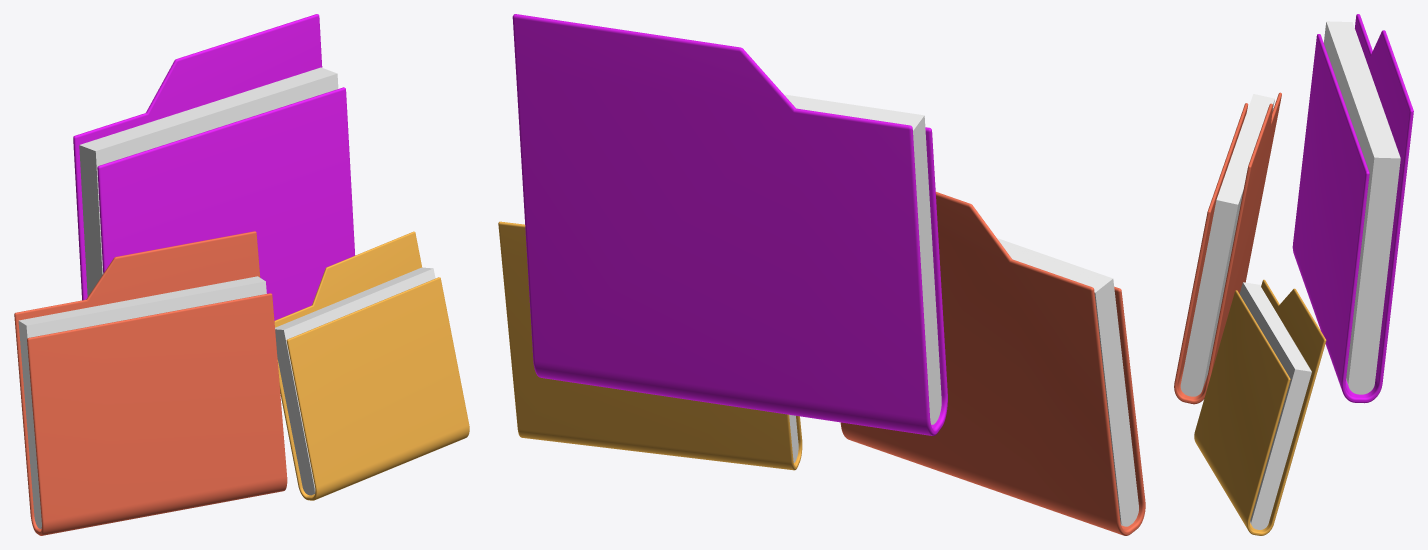
File: FOLDER.glb
3 renders of one model, left to right at view 1: azimuth 30°, elevation 25°; view 2: azimuth 150°, elevation 25°; view 3: azimuth 270°, elevation 25°, orthographic. The views are drawn at different scales.
Parts seen in each view (by area): view 1: Plane.026, Plane.023, Plane.025, Cube.086, Cube.088, Cube.087; view 2: Plane.023, Plane.026, Plane.025, Cube.088, Cube.086; view 3: Plane.023, Plane.025, Cube.086, Cube.088, Plane.026, Cube.087.
Part boxes in pixels (left/top/right/bottom): Plane.026: left=14, top=231, right=287, bottom=535; Plane.023: left=73, top=14, right=355, bottom=320; Plane.025: left=274, top=231, right=469, bottom=500; Cube.086: left=79, top=67, right=338, bottom=296; Cube.088: left=18, top=276, right=266, bottom=528; Cube.087: left=275, top=267, right=435, bottom=495; Plane.023: left=512, top=14, right=947, bottom=435; Plane.026: left=840, top=192, right=1145, bottom=535; Plane.025: left=498, top=221, right=802, bottom=470; Cube.088: left=997, top=238, right=1138, bottom=526; Cube.086: left=784, top=94, right=941, bottom=424; Plane.023: left=1292, top=14, right=1413, bottom=403; Plane.025: left=1194, top=279, right=1326, bottom=535; Cube.086: left=1324, top=21, right=1400, bottom=394; Cube.088: left=1180, top=94, right=1274, bottom=396; Plane.026: left=1174, top=92, right=1281, bottom=404; Cube.087: left=1239, top=282, right=1311, bottom=529.
Bounding box in the file's own units: 6.96 × 5.81 × 3.2.
